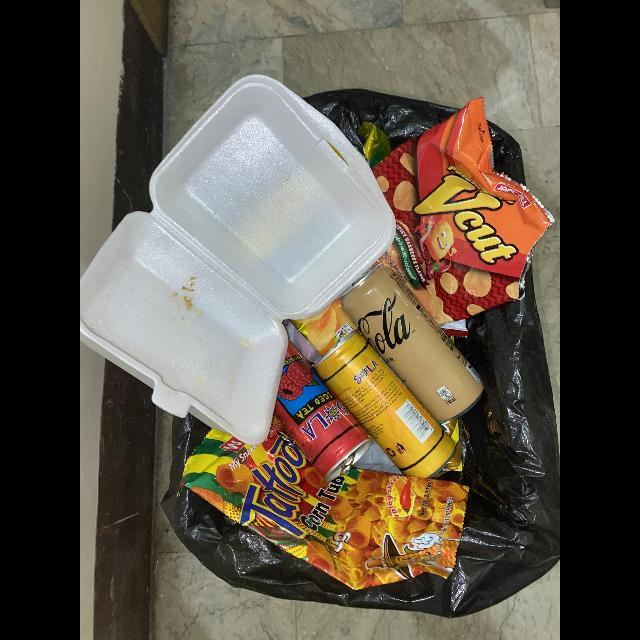metal: (339, 263, 484, 423), (312, 329, 456, 479), (275, 343, 374, 482)
styrofoam: (80, 75, 395, 447)
wrapper: (183, 418, 470, 591), (372, 98, 555, 326)
